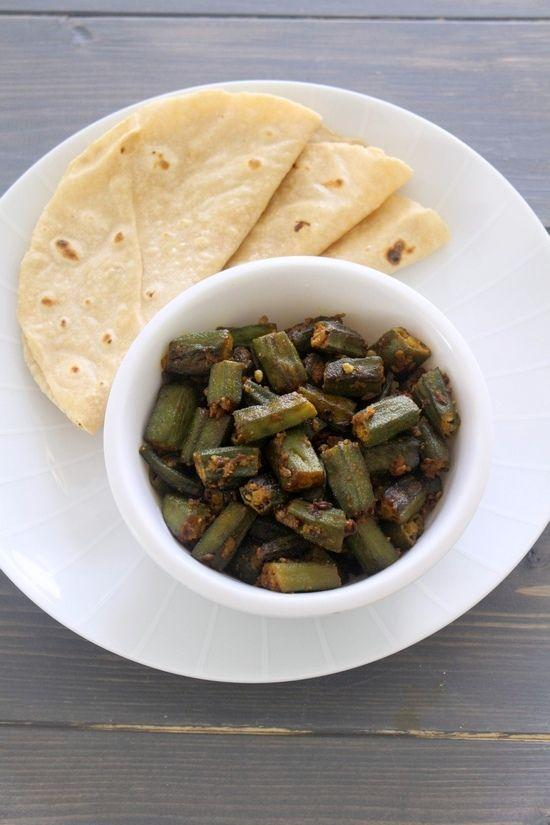bhindi: (169, 332, 426, 551)
